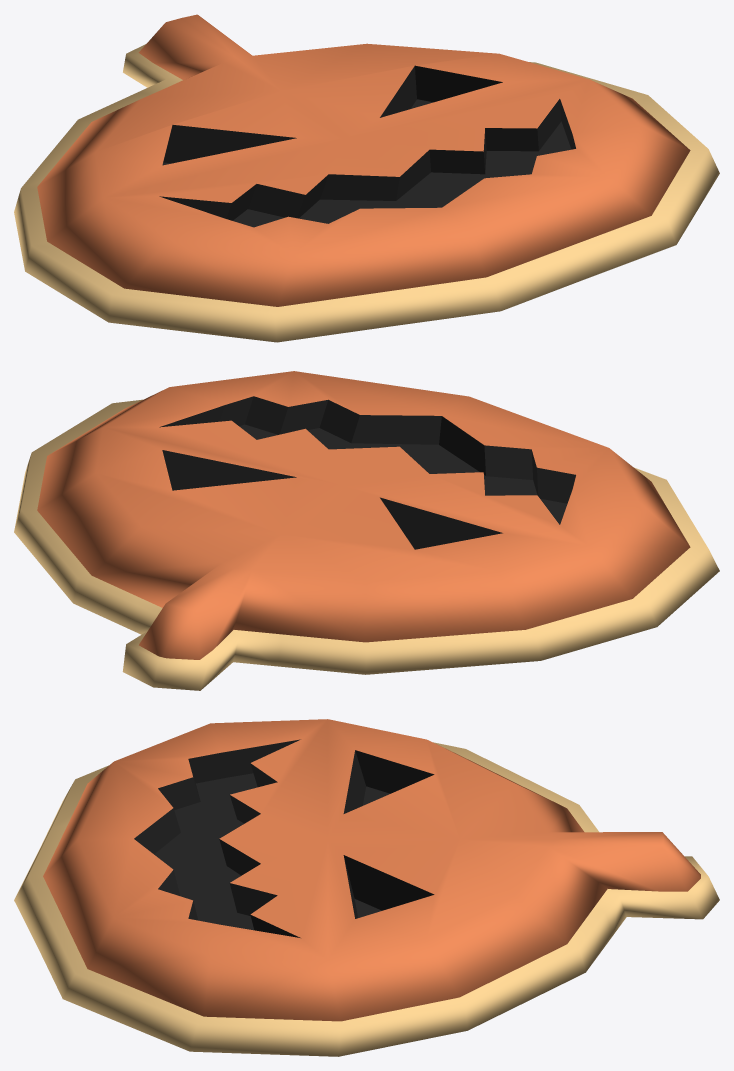
File: cookie_pumpkin.fbx
3 renders of one model, top to bottom at view 1: azimuth 30°, elevation 25°; view 2: azimuth 150°, elevation 25°; view 3: azimuth 270°, elevation 25°, orthographic.
Parts seen in each view (by area): view 1: cookie.pumpkin.001; view 2: cookie.pumpkin.001; view 3: cookie.pumpkin.001.
Part boxes in pixels (x1=…): cookie.pumpkin.001: x1=14, y1=14, x2=719, y2=342; cookie.pumpkin.001: x1=14, y1=371, x2=719, y2=690; cookie.pumpkin.001: x1=14, y1=719, x2=719, y2=1056.
Bounding box in the file's own units: 265 × 25.89 × 253.
